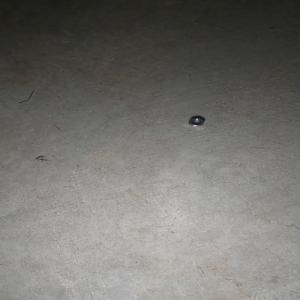Nut: (189, 117, 205, 127)
